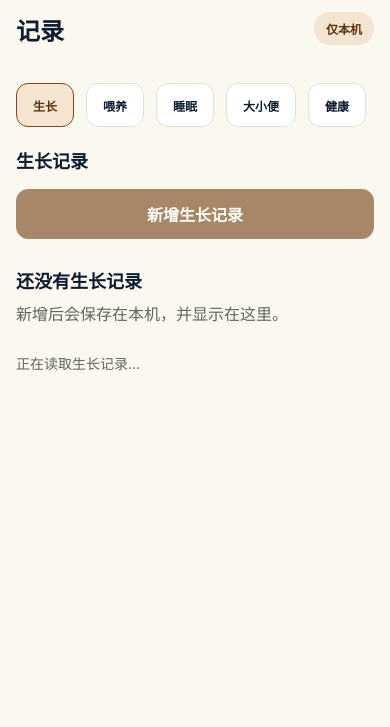
creates and opens exact growth editors
Expected: the heading "还没有生长记录" is shown, left=16, top=271, right=142, bottom=292
Click the button "新增生长记录": (195, 214) left=16, top=189, right=374, bottom=239
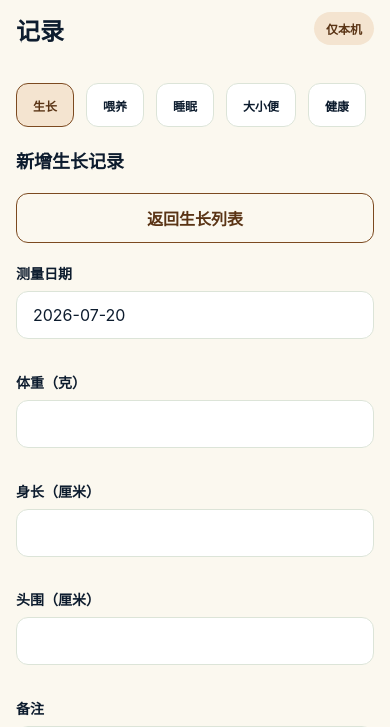
Expected: the heading "新增生长记录" is shown, left=16, top=151, right=124, bottom=172
Result: the field named "测量日期" is shown at left=16, top=291, right=374, bottom=339
